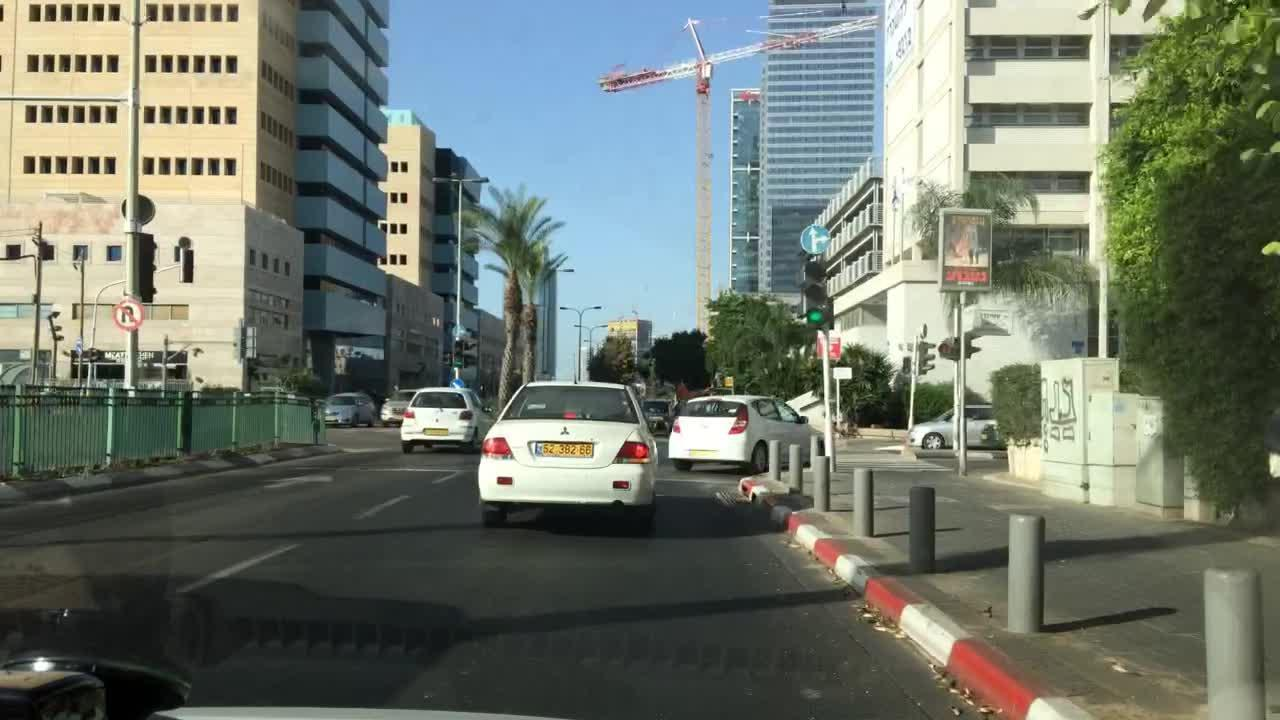Mitsubishi: (557, 421, 573, 439)
